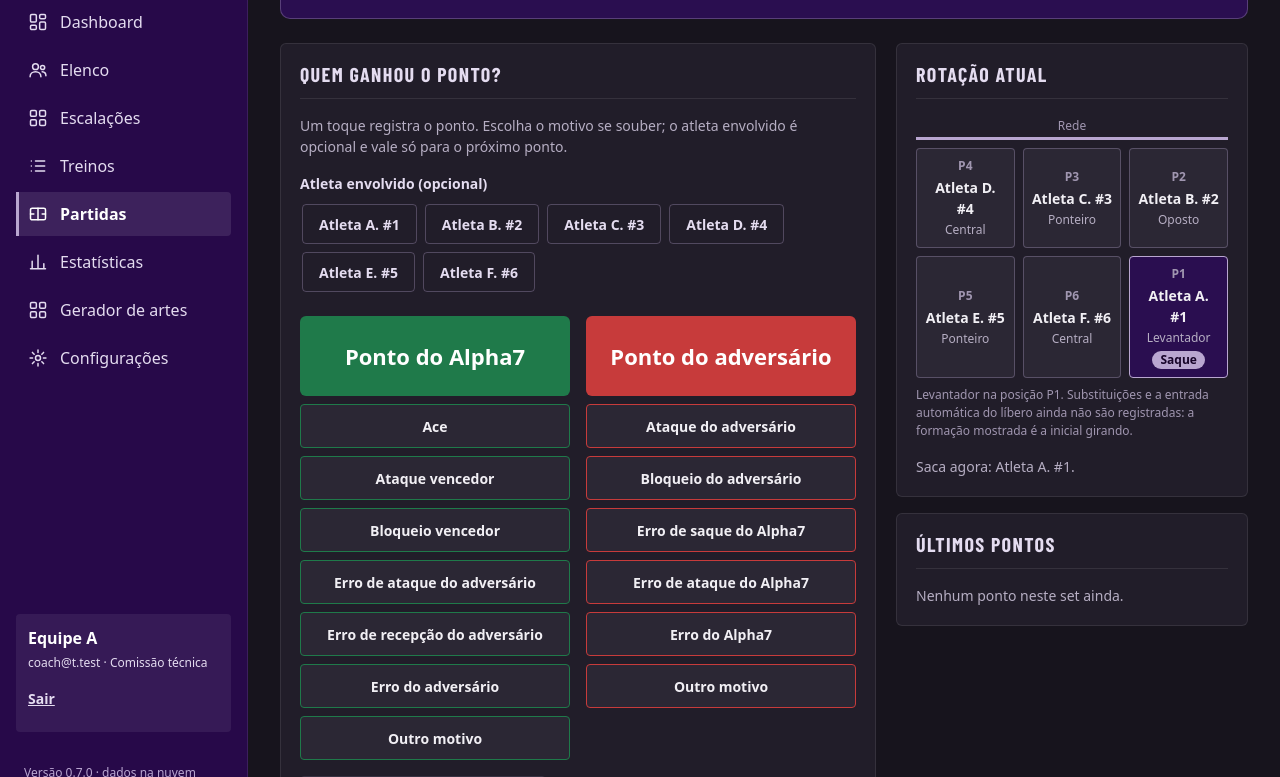
acompanhamento com o banco simulado › a sessão expirada é explicada e nada é gravado
The width and height of the screenshot is (1280, 777).
(page scrolled)
Click the button "Ponto do Alpha7".
click(435, 356)  # box [300,316,570,396]
(page scrolled)
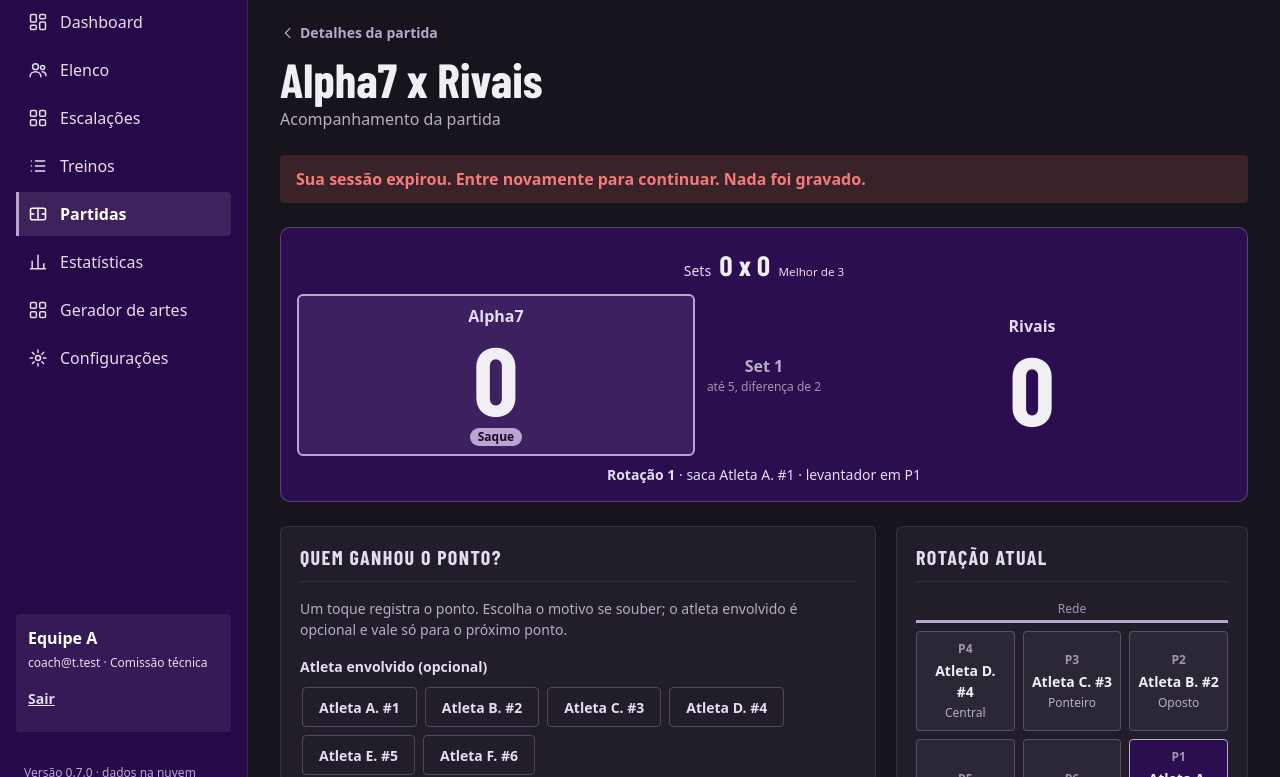
Check: the message "Sua sessão expirou. Entre novamente para continuar. Nada foi gravado." is shown, box [280,155,1248,203]
